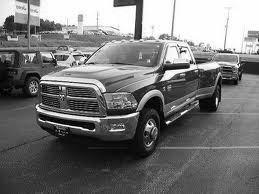car: (35, 38, 222, 163)
